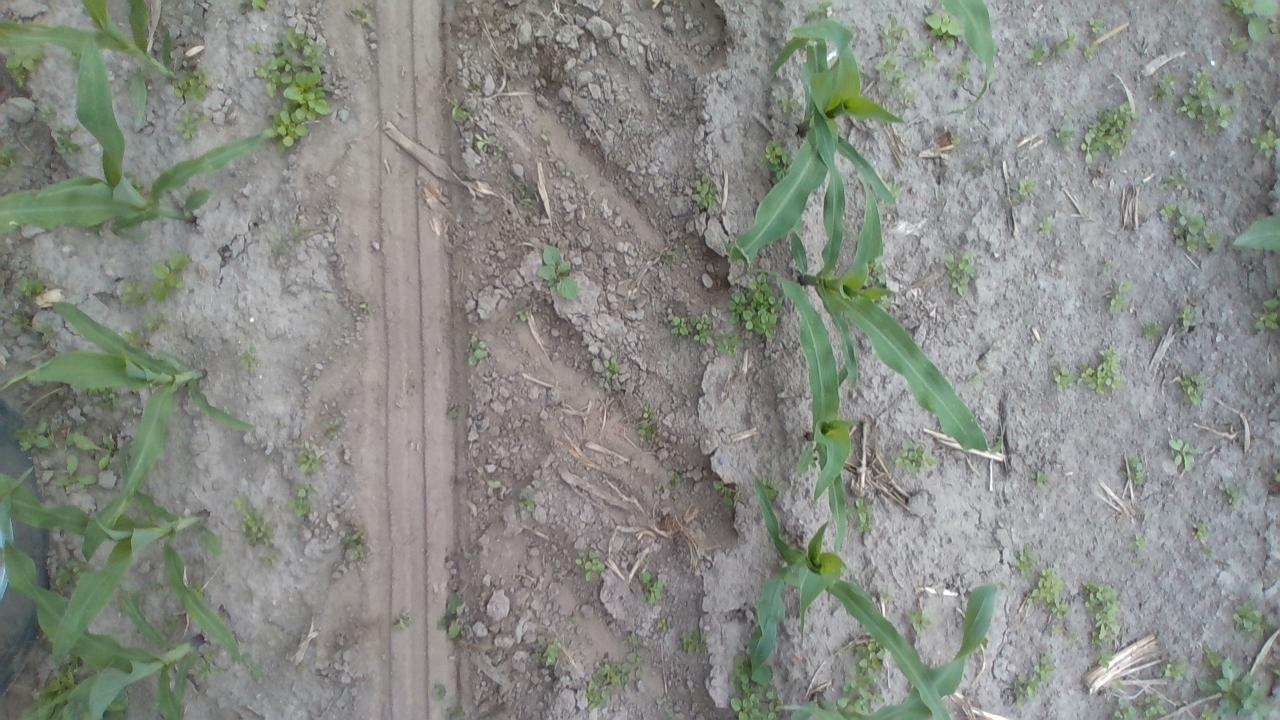Maize: (788, 78, 992, 454), (2, 301, 252, 568), (0, 470, 265, 676), (748, 467, 952, 719), (731, 19, 903, 280), (0, 539, 206, 720), (1, 1, 183, 194), (786, 579, 998, 720), (750, 266, 854, 552), (0, 130, 265, 236), (936, 0, 997, 114), (1230, 212, 1280, 255)
Weeds: (245, 25, 330, 148), (1195, 647, 1278, 720), (1174, 65, 1242, 140), (584, 631, 642, 711), (725, 273, 786, 339), (839, 636, 890, 714), (530, 237, 586, 306), (1156, 199, 1220, 256), (1084, 102, 1136, 172), (1046, 344, 1123, 391), (19, 667, 73, 720), (1078, 583, 1124, 640), (1011, 651, 1059, 705), (1024, 566, 1064, 620), (730, 655, 763, 720), (436, 587, 473, 643), (230, 493, 271, 542), (1227, 0, 1280, 37), (148, 254, 188, 302), (52, 456, 100, 495), (3, 45, 44, 87), (14, 417, 56, 458), (942, 248, 974, 298), (168, 62, 209, 101), (75, 432, 116, 470), (894, 440, 938, 474), (1249, 288, 1280, 336), (925, 9, 963, 48), (687, 176, 720, 220), (666, 316, 712, 346), (171, 109, 214, 141), (876, 17, 912, 54), (572, 549, 606, 587), (852, 495, 884, 535), (761, 136, 791, 178), (1172, 371, 1207, 406), (338, 520, 372, 556), (291, 483, 320, 524), (1168, 437, 1200, 474), (637, 564, 665, 605), (49, 557, 85, 588), (880, 84, 919, 112), (1234, 596, 1262, 634), (635, 403, 662, 442), (296, 444, 326, 479), (900, 603, 935, 633), (434, 686, 464, 720), (1106, 281, 1136, 315), (52, 124, 84, 154), (1048, 104, 1072, 144), (1020, 34, 1050, 65), (711, 477, 740, 508), (1012, 546, 1038, 580), (874, 55, 908, 81), (1122, 446, 1144, 486), (20, 268, 51, 296), (676, 630, 708, 657), (540, 643, 566, 676), (1150, 70, 1174, 105), (1250, 129, 1278, 158), (1138, 693, 1166, 720), (469, 334, 486, 378), (762, 687, 784, 720), (124, 283, 154, 307), (1108, 698, 1138, 720), (1010, 176, 1040, 198), (443, 99, 470, 122), (604, 354, 626, 382), (124, 328, 154, 348), (392, 610, 416, 635), (344, 2, 372, 23), (1030, 469, 1059, 489), (242, 656, 264, 682), (1160, 168, 1186, 190), (259, 542, 284, 564), (37, 100, 61, 122), (1160, 655, 1180, 681), (85, 387, 124, 400), (1179, 306, 1202, 328), (200, 655, 220, 680), (774, 101, 805, 117), (934, 126, 960, 144), (1052, 622, 1078, 640), (145, 310, 170, 328), (513, 497, 534, 518), (1220, 482, 1242, 502), (1142, 318, 1166, 336), (911, 47, 939, 62), (1054, 29, 1074, 50), (238, 0, 276, 11), (472, 130, 492, 150), (1035, 216, 1057, 234), (0, 149, 15, 175), (1080, 43, 1100, 61), (654, 611, 672, 631), (1094, 650, 1116, 666), (954, 58, 972, 76), (10, 310, 29, 327), (1086, 17, 1105, 33), (485, 477, 501, 494), (1102, 258, 1118, 275), (874, 586, 892, 601), (1190, 524, 1208, 538), (239, 347, 258, 360), (720, 344, 744, 354), (1228, 31, 1242, 46), (517, 310, 530, 324), (815, 2, 833, 12), (1269, 466, 1280, 480)
